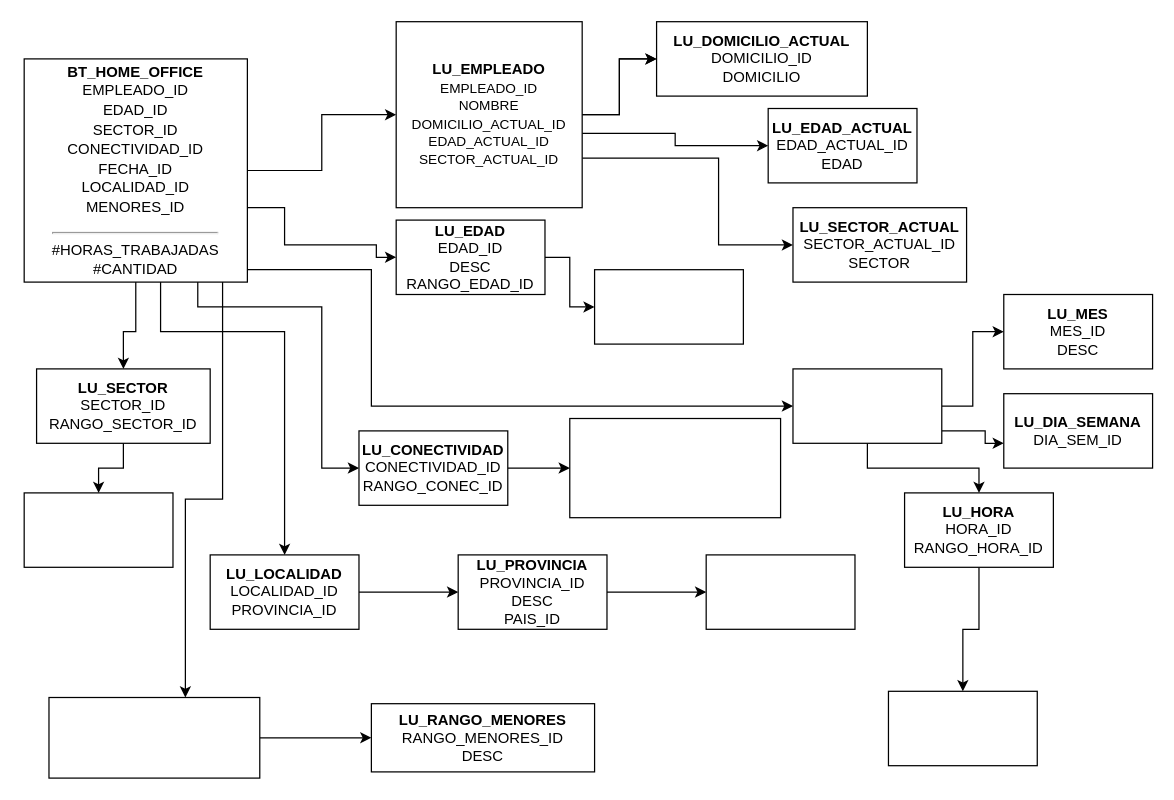
Image size: 1174x800. Some labels were removed from this diagram. The centre of each missing label's shape, as x and y in pixels:
"LU_FECHA FECHA_ID DIA_SEM_ID MES_ID" goes at point (867, 405).
"LU_MENORES MENORES_ID RANGO_MENORES_ID" goes at point (154, 737).
"LU_PAIS PAIS_ID DESC" goes at point (780, 591).
"LU_RANGO_CONECTIVIDAD RANGO_CONEC_ID DESC" goes at point (675, 467).
"LU_RANGO_EDAD RANGO_EDAD_ID DESC" goes at point (668, 306).
"LU_RANGO_HORA RANGO_HORA_ID DESC" goes at point (962, 728).
"LU_RANGO_SECTOR RANGO_SECTOR_ID DESC" goes at point (98, 529).
